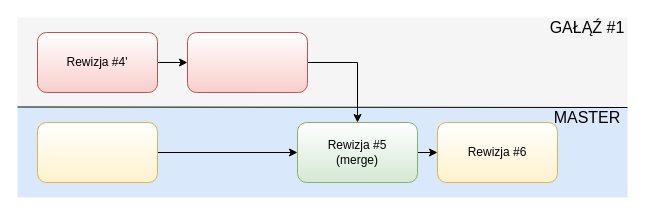
This 646x214 diagram has some shape labels left out. The shapes that lost their labels are listed below. From the top down, each one's box as (x1, y1, x2, y2) in pixels, then its label:
(186, 32, 308, 92): Rewizja #5'
(36, 122, 158, 182): Rewizja #4
